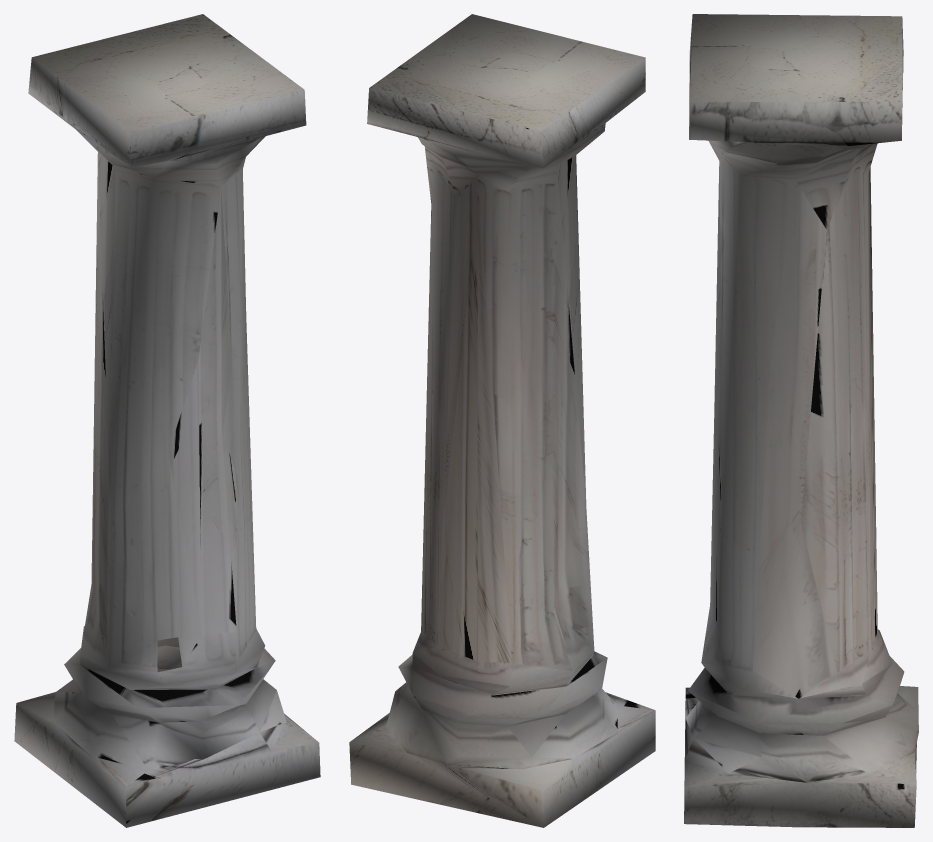
The model's file is clom.fbx.
The picture shows the model from 3 angles, left to right: view 1: azimuth 30°, elevation 25°; view 2: azimuth 150°, elevation 25°; view 3: azimuth 270°, elevation 25°; orthographic projection. The views are drawn at different scales.
Visible parts, largest first — view 1: tripo_node_7ebc9513; view 2: tripo_node_7ebc9513; view 3: tripo_node_7ebc9513.
Boxes of the visible parts, left/top/right/bottom form: tripo_node_7ebc9513: left=14, top=14, right=320, bottom=827; tripo_node_7ebc9513: left=349, top=14, right=655, bottom=827; tripo_node_7ebc9513: left=684, top=14, right=918, bottom=827.
Bounding box in the file's own units: 29.19 × 99.77 × 29.42.
1 material, 1 textured.
